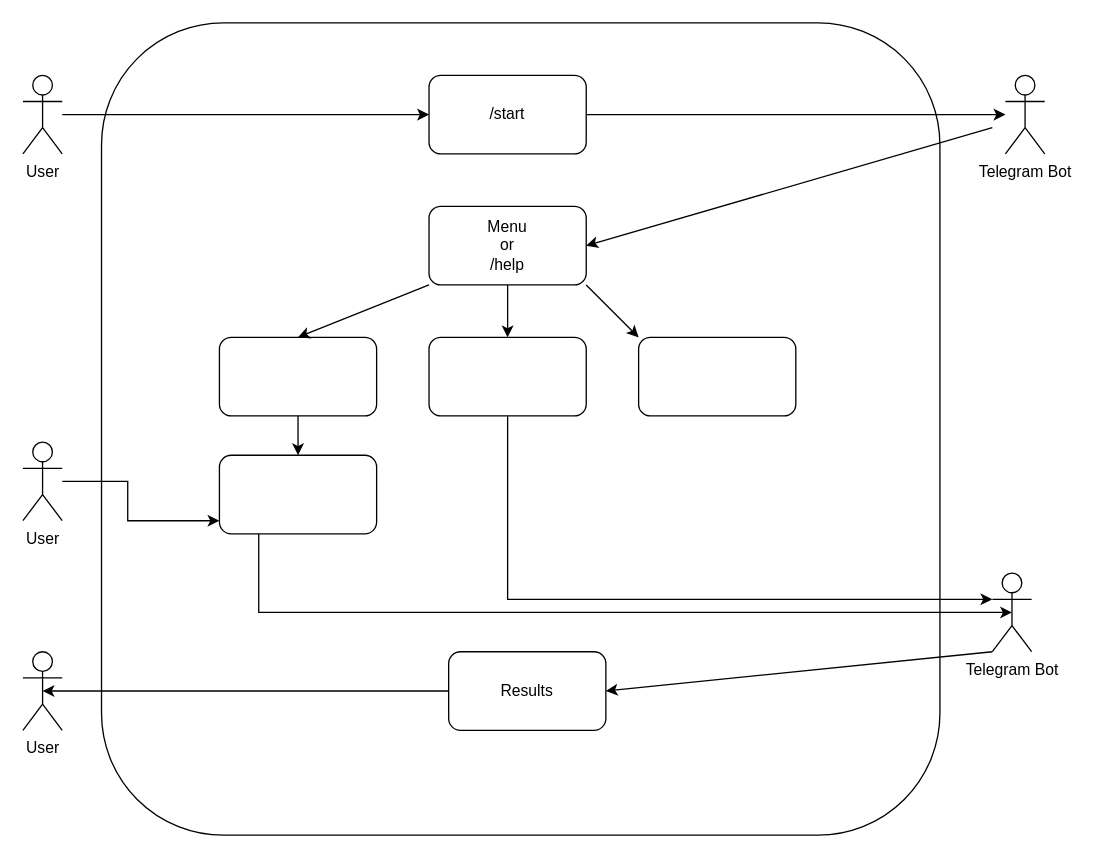
Image size: 1094x858. Some labels were removed from this diagram. Here are the shapes that lost their labels. From the top down, the centre of each, then its label:
(297,376): /scan_url
(507,376): /scan_emails
(716,376): Message The Developer
(297,494): Request URL
